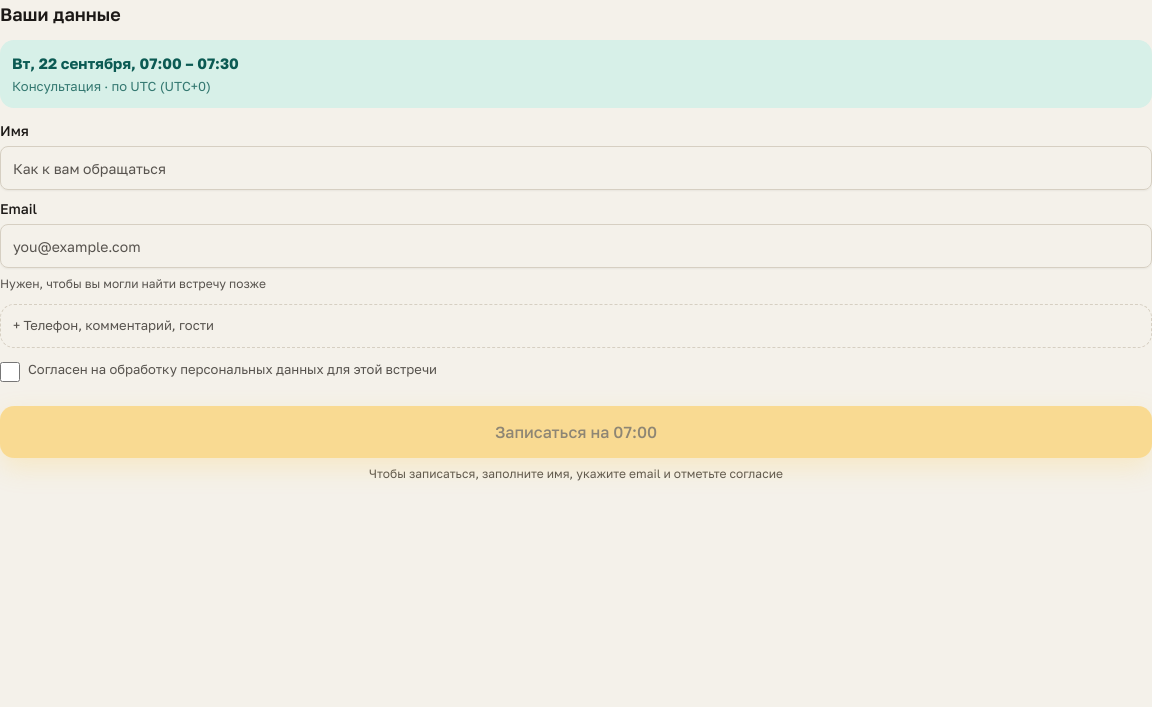
BookingForm › обновляет счётчик комментария при вводе
The width and height of the screenshot is (1152, 707).
Step 1. Click the button "+ Телефон, комментарий, гости" → (119, 325), box [0,304,1151,348]
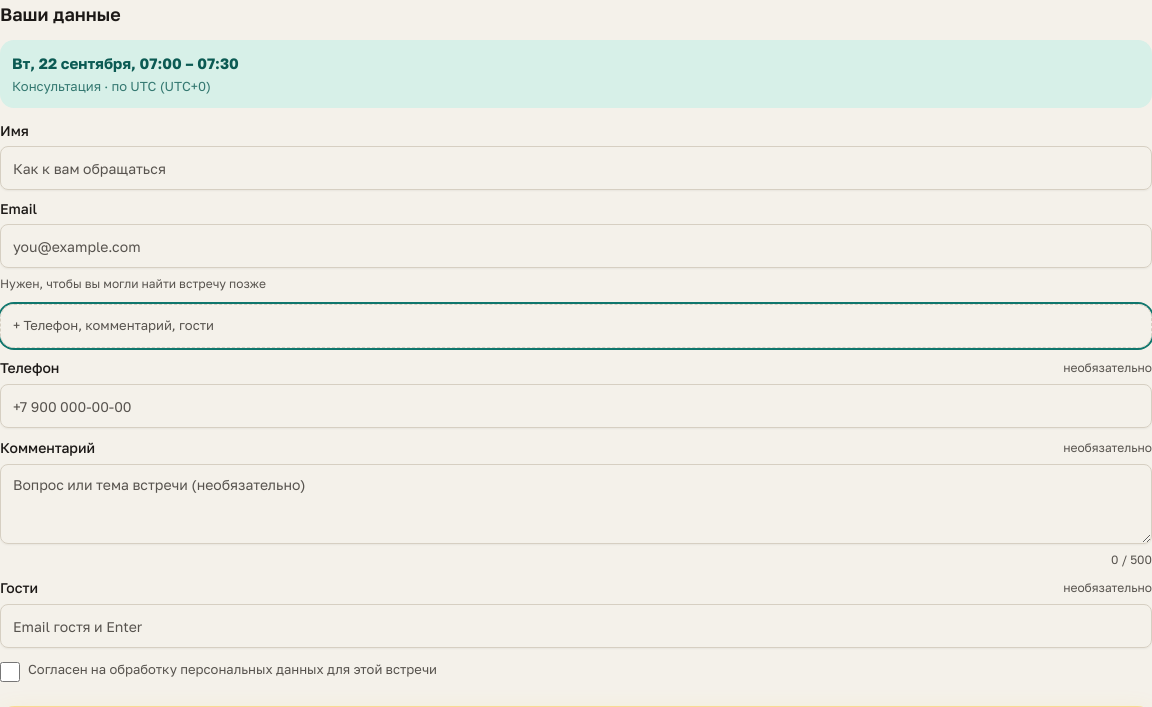
Step 2. Type "abc" into the text box labelled "Комментарий" → (576, 504), box [0,464,1151,544]
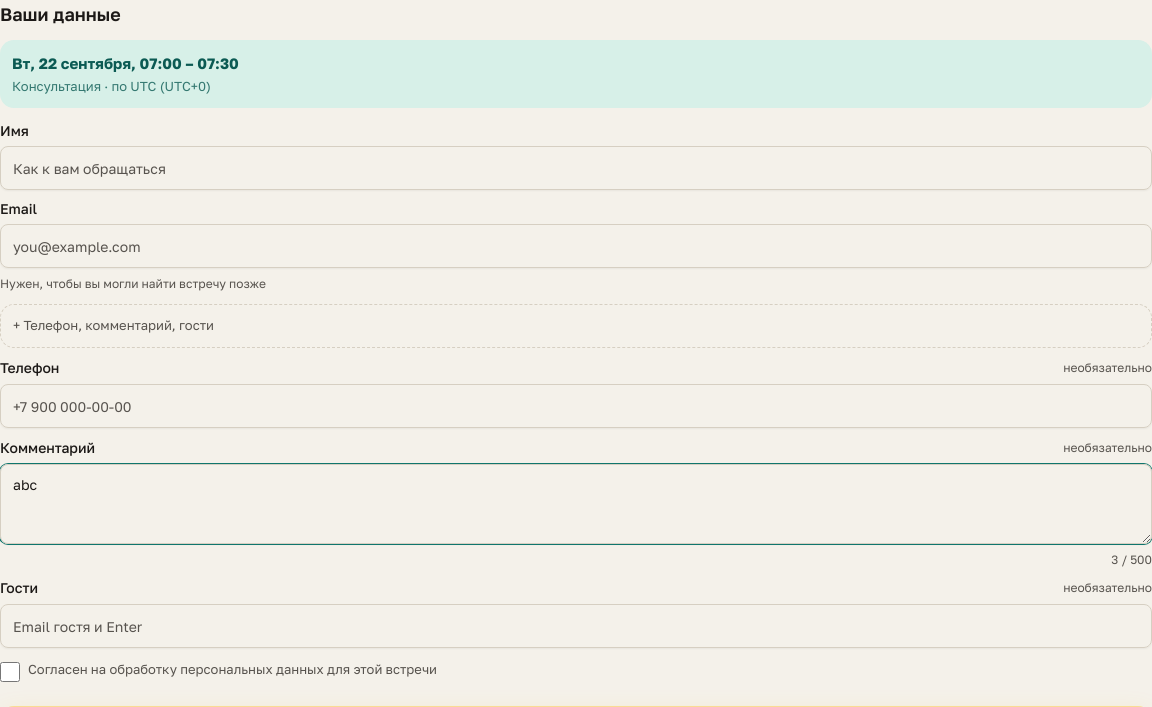
Expected: the text "3 / 500" is shown, [1111,552,1151,568]
